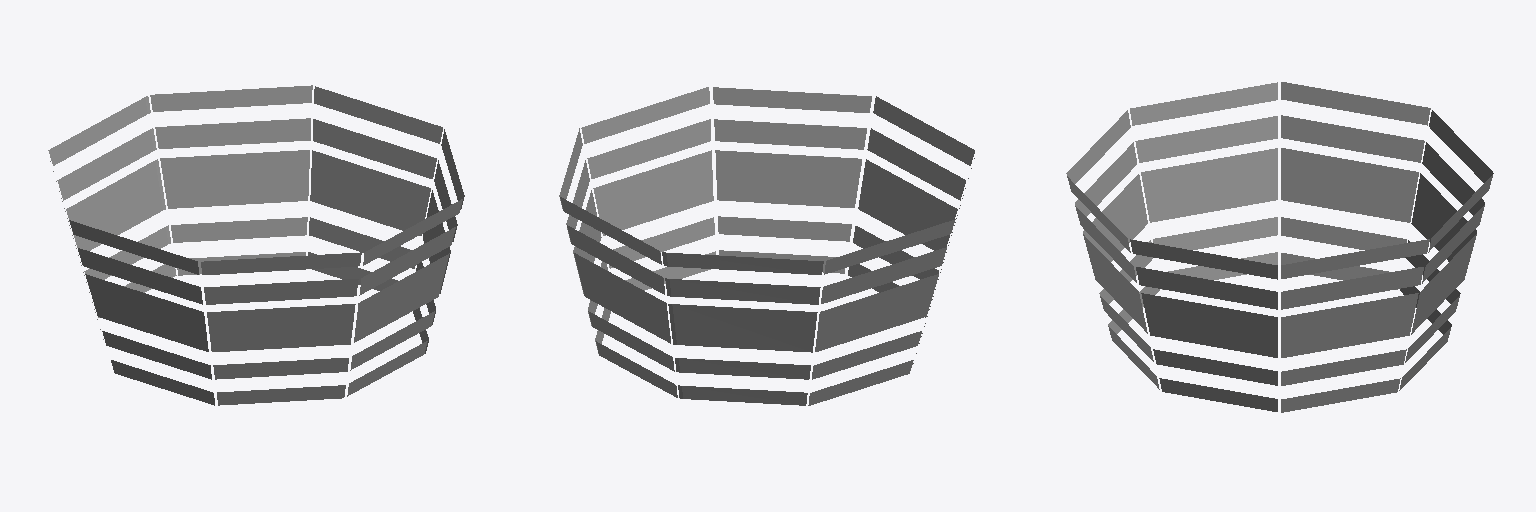
Rendered from TurnVarfAlb.obj.
3 renders of one model, left to right at view 1: azimuth 30°, elevation 25°; view 2: azimuth 150°, elevation 25°; view 3: azimuth 270°, elevation 25°, orthographic.
Parts seen in each view (by area): view 1: TurnVarfAlb_Plane.023; view 2: TurnVarfAlb_Plane.023; view 3: TurnVarfAlb_Plane.023.
Boxes of the visible parts, x1=… form: TurnVarfAlb_Plane.023: x1=48, y1=85, x2=464, y2=405; TurnVarfAlb_Plane.023: x1=559, y1=87, x2=974, y2=405; TurnVarfAlb_Plane.023: x1=1066, y1=82, x2=1493, y2=412.
Bounding box in the file's own units: 8.41 × 3.54 × 8.28.